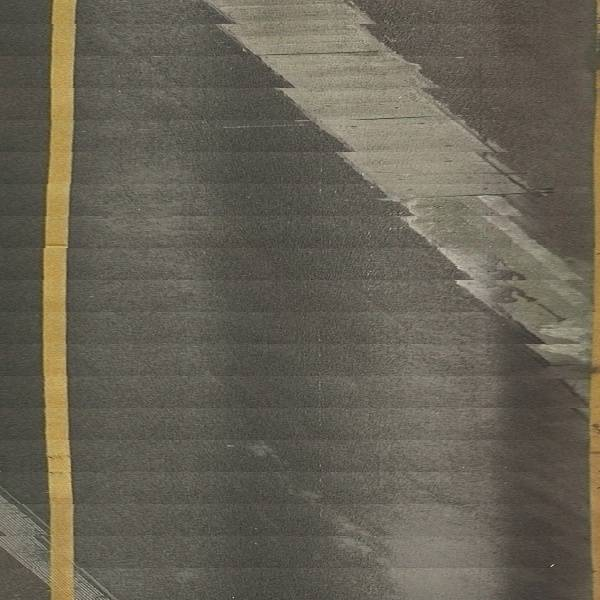road_damage: (244, 40, 548, 369)
